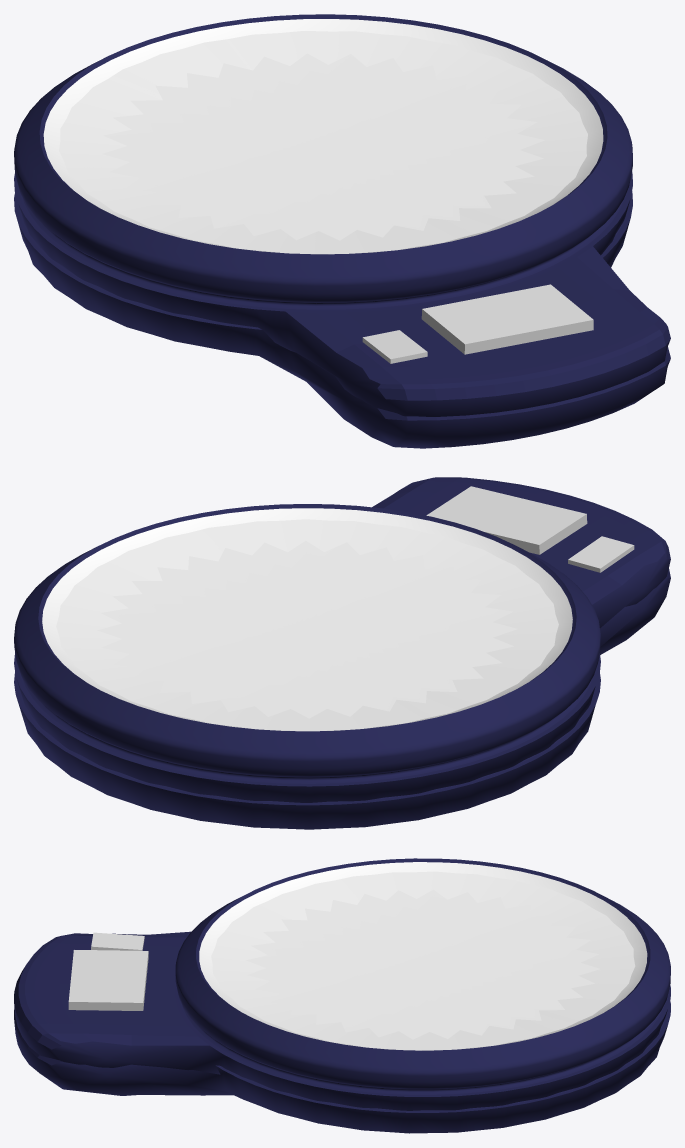
Rendered from Mass Balance.fbx.
3 renders of one model, top to bottom at view 1: azimuth 30°, elevation 25°; view 2: azimuth 150°, elevation 25°; view 3: azimuth 270°, elevation 25°, orthographic. The views are drawn at different scales.
Parts seen in each view (by area): view 1: Body, Stand, Screen, Button; view 2: Body, Stand, Screen, Button; view 3: Body, Stand, Screen, Button.
Part boxes in pixels (<box>): Body: <box>14,14,670,416</box>; Stand: <box>14,191,670,448</box>; Screen: <box>421,284,593,354</box>; Button: <box>362,330,427,363</box>; Body: <box>14,477,670,802</box>; Stand: <box>14,568,670,829</box>; Screen: <box>426,486,587,554</box>; Button: <box>568,536,634,572</box>; Body: <box>14,858,670,1110</box>; Stand: <box>14,1001,670,1133</box>; Screen: <box>68,950,148,1010</box>; Button: <box>91,932,144,950</box>.
Size of the model in its own units: 199 by 45.8 by 263.
